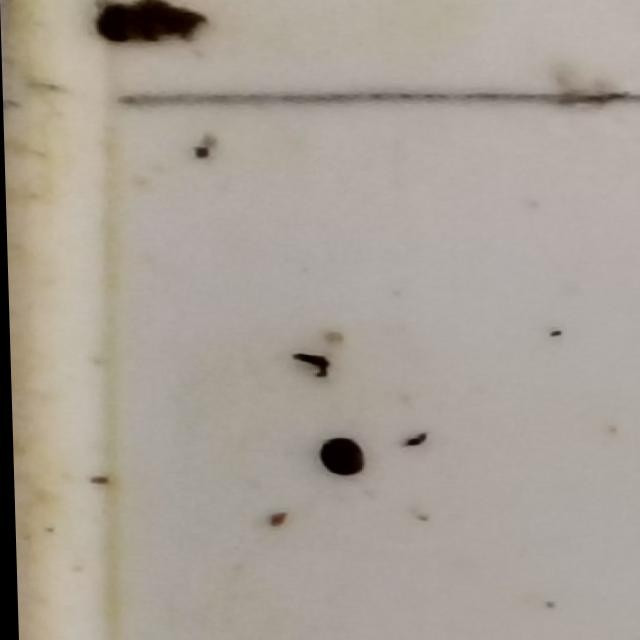varroa: (316, 437, 365, 481)
